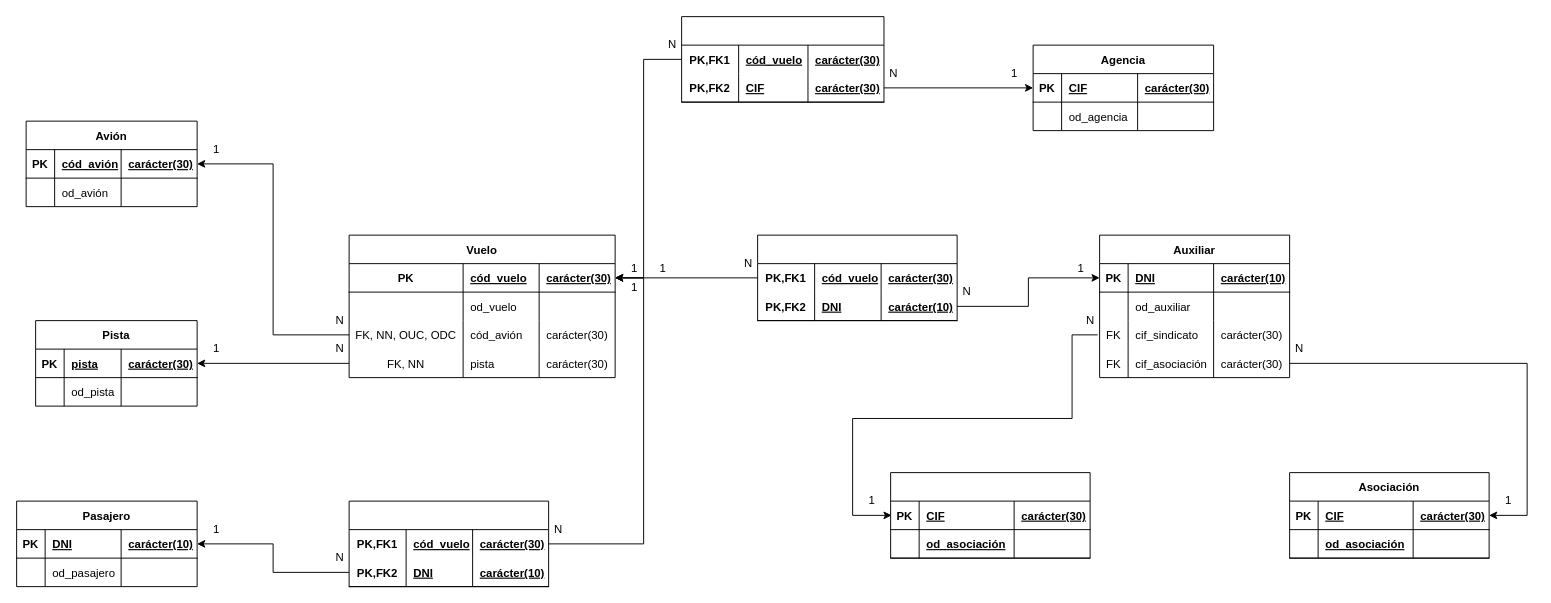
This 1551x603 diagram has some shape labels left out. The shapes that lost their labels are listed below. From the top down, each one's box as (x1, y1, x2, y2) in pixels, then its label:
(681, 16, 884, 102): Ofertado
(757, 234, 957, 321): Vuela
(890, 472, 1090, 558): Sindicato
(348, 500, 549, 587): Tomado_por
